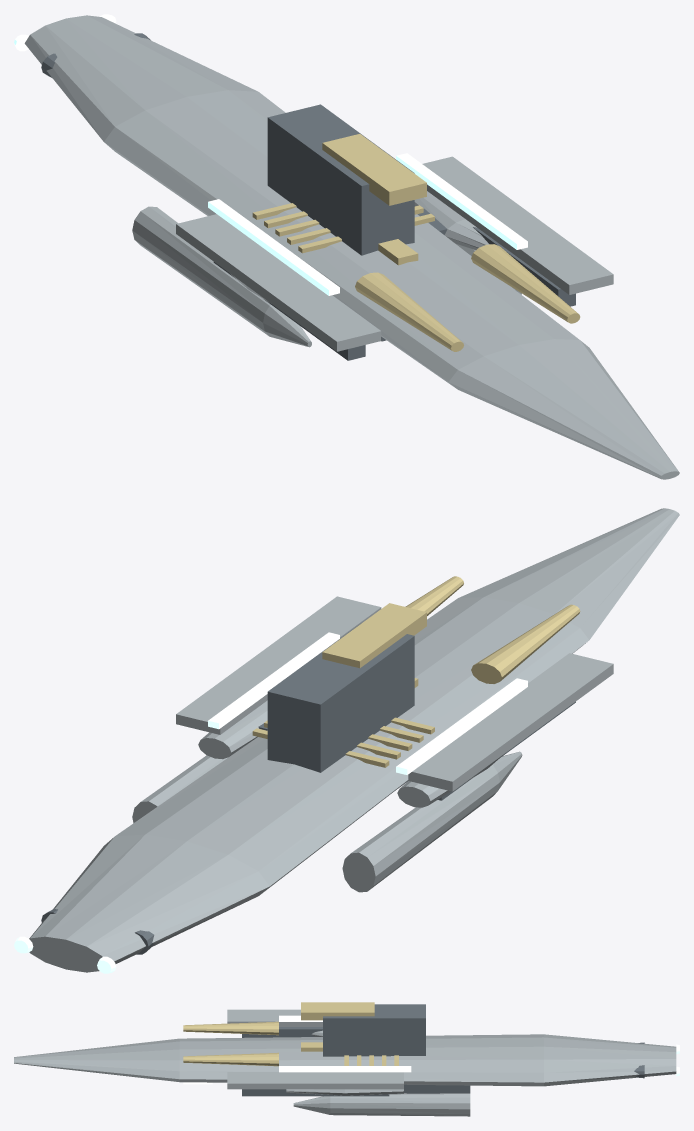
3 renders of one model, top to bottom at view 1: azimuth 30°, elevation 25°; view 2: azimuth 150°, elevation 25°; view 3: azimuth 270°, elevation 25°, orthographic. The views are drawn at different scales.
Bounding box in the file's own units: 4.95 × 2.5 × 18.82.
